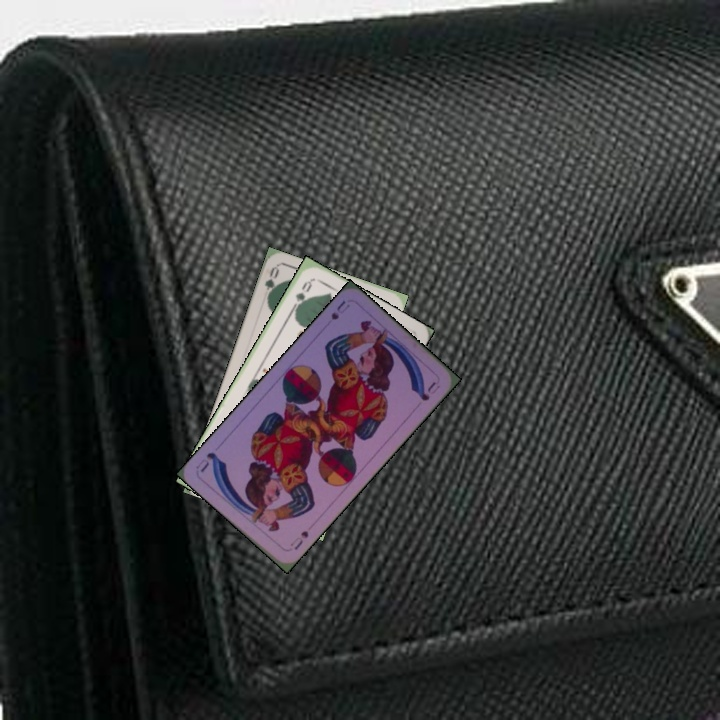GO: (288, 276, 315, 315), (261, 264, 282, 305)
SU: (327, 296, 352, 323), (286, 527, 311, 553)
